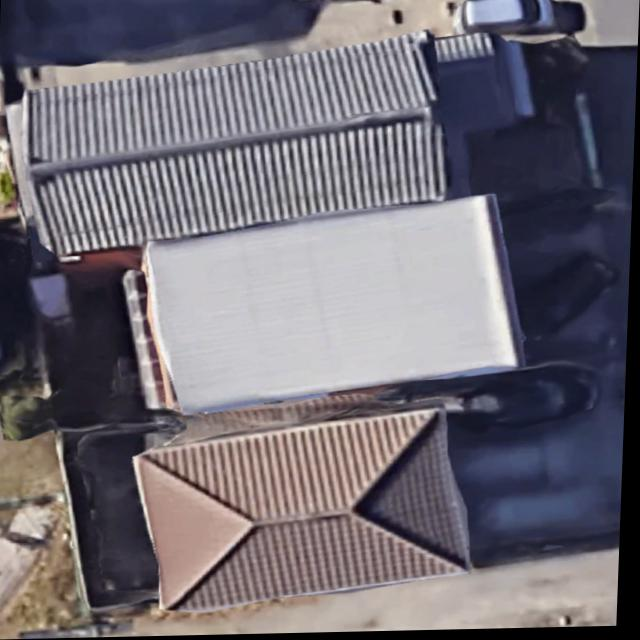Batiment: (29, 35, 445, 255), (146, 198, 525, 415), (137, 397, 473, 612)
